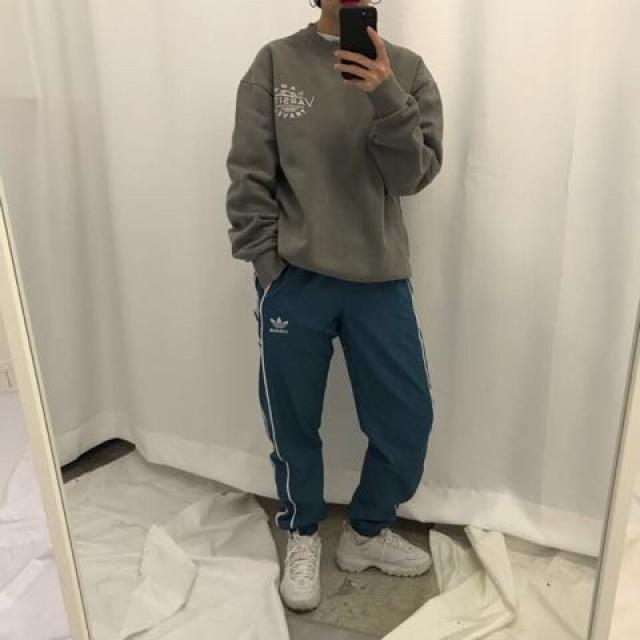mtm: (222, 24, 439, 284)
trainingpants: (257, 266, 433, 538)
